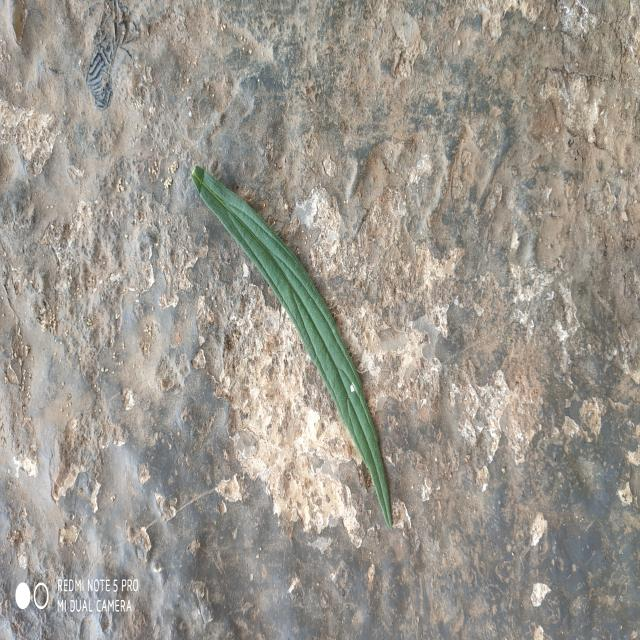defectedthambe: (256, 227, 392, 529)
thambe: (191, 164, 392, 529)
